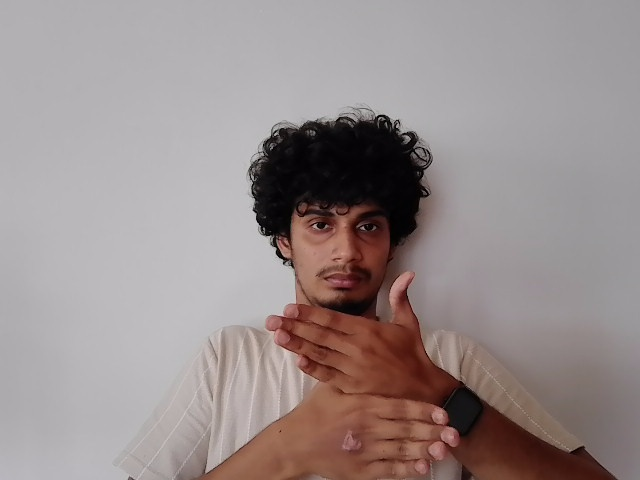busy: (263, 271, 467, 480)
